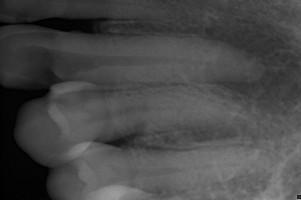Furcation Involvement: (200, 12, 301, 113)
